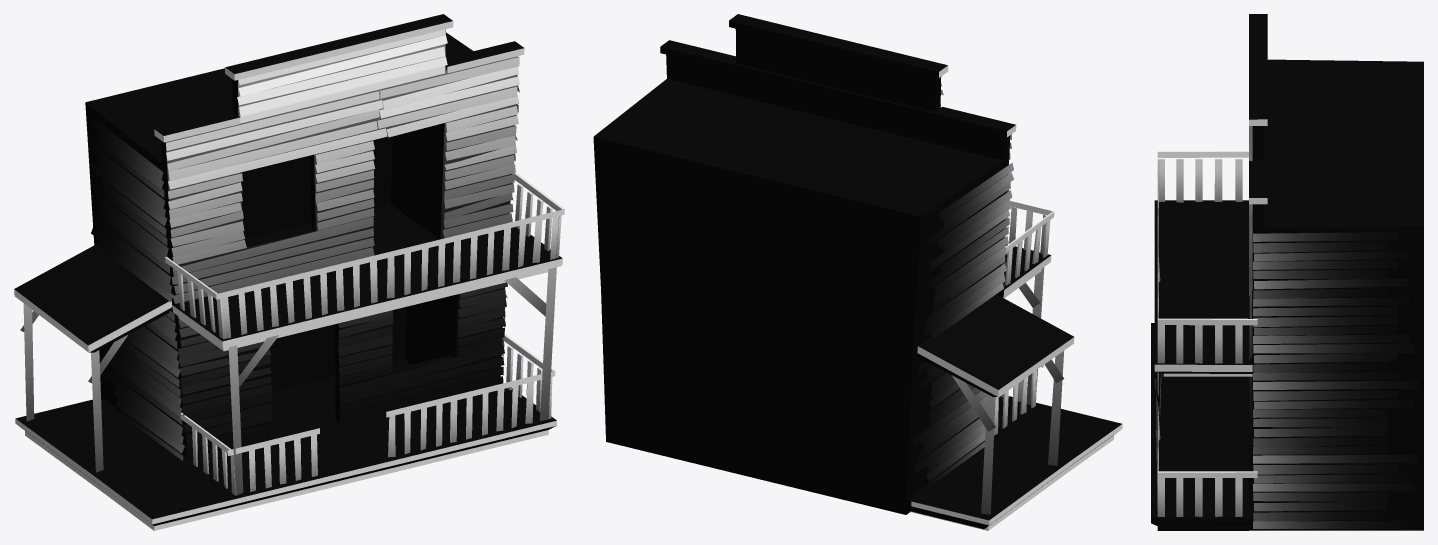
The model's file is Building4.glb.
3 renders of one model, left to right at view 1: azimuth 30°, elevation 25°; view 2: azimuth 150°, elevation 25°; view 3: azimuth 270°, elevation 25°, orthographic. The views are drawn at different scales.
Visible parts, largest first — view 1: Building4; view 2: Building4; view 3: Building4.
Boxes of the visible parts, <box> form: Building4: <box>14,14,564,530</box>; Building4: <box>593,14,1122,530</box>; Building4: <box>1151,14,1423,530</box>.
Size of what is drawn, in the model's own units: 12.72 by 11.12 by 7.09.
Materials: 1 (1 with a texture image).
